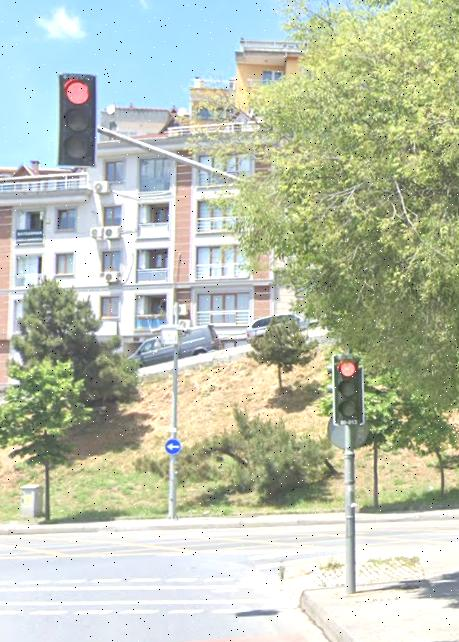redlight: (59, 74, 100, 164), (334, 352, 363, 416)
turnleft: (166, 438, 182, 455)
